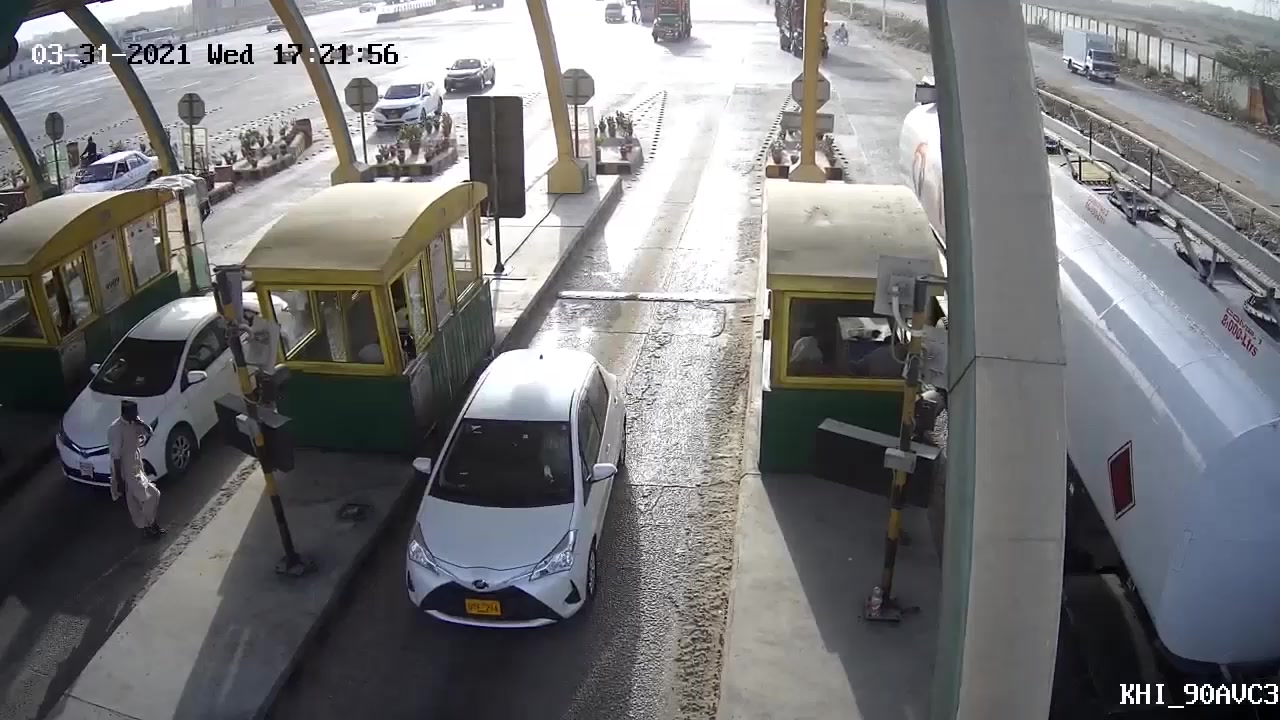F1: (366, 344, 644, 664)
